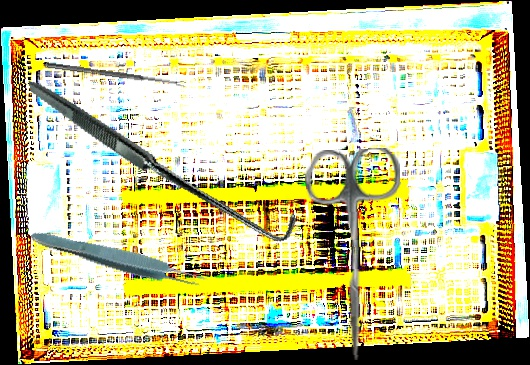Hook Surgical: (27, 15, 302, 301)
Iris Scissors: (304, 147, 407, 362)
Surgical Spoon: (46, 62, 186, 88)
Tissue Forceps: (27, 224, 211, 296)
